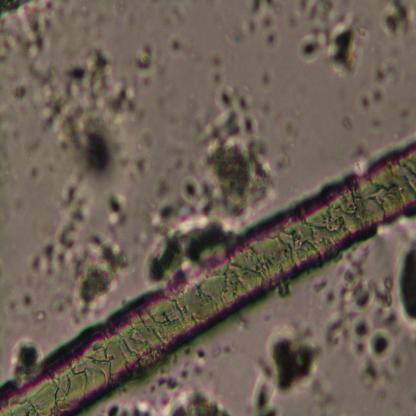Background material: (181, 74, 274, 218), (20, 41, 136, 132), (331, 256, 404, 381), (22, 179, 88, 304), (144, 202, 230, 289), (293, 0, 363, 79), (70, 234, 124, 313), (4, 0, 64, 63), (359, 54, 406, 131), (268, 327, 323, 390), (239, 0, 287, 58), (151, 348, 213, 392), (122, 132, 166, 192), (77, 118, 119, 180), (108, 395, 232, 416), (267, 112, 301, 187), (5, 287, 51, 331), (395, 242, 416, 325), (249, 356, 278, 415), (10, 340, 42, 382), (380, 1, 412, 38), (200, 43, 227, 82), (145, 178, 180, 203), (107, 193, 128, 229), (8, 74, 26, 105), (336, 108, 357, 132), (0, 0, 38, 13), (137, 43, 154, 70), (166, 32, 184, 55), (310, 275, 330, 295), (170, 4, 186, 29), (27, 167, 42, 182)
Hair: (0, 140, 416, 416)
